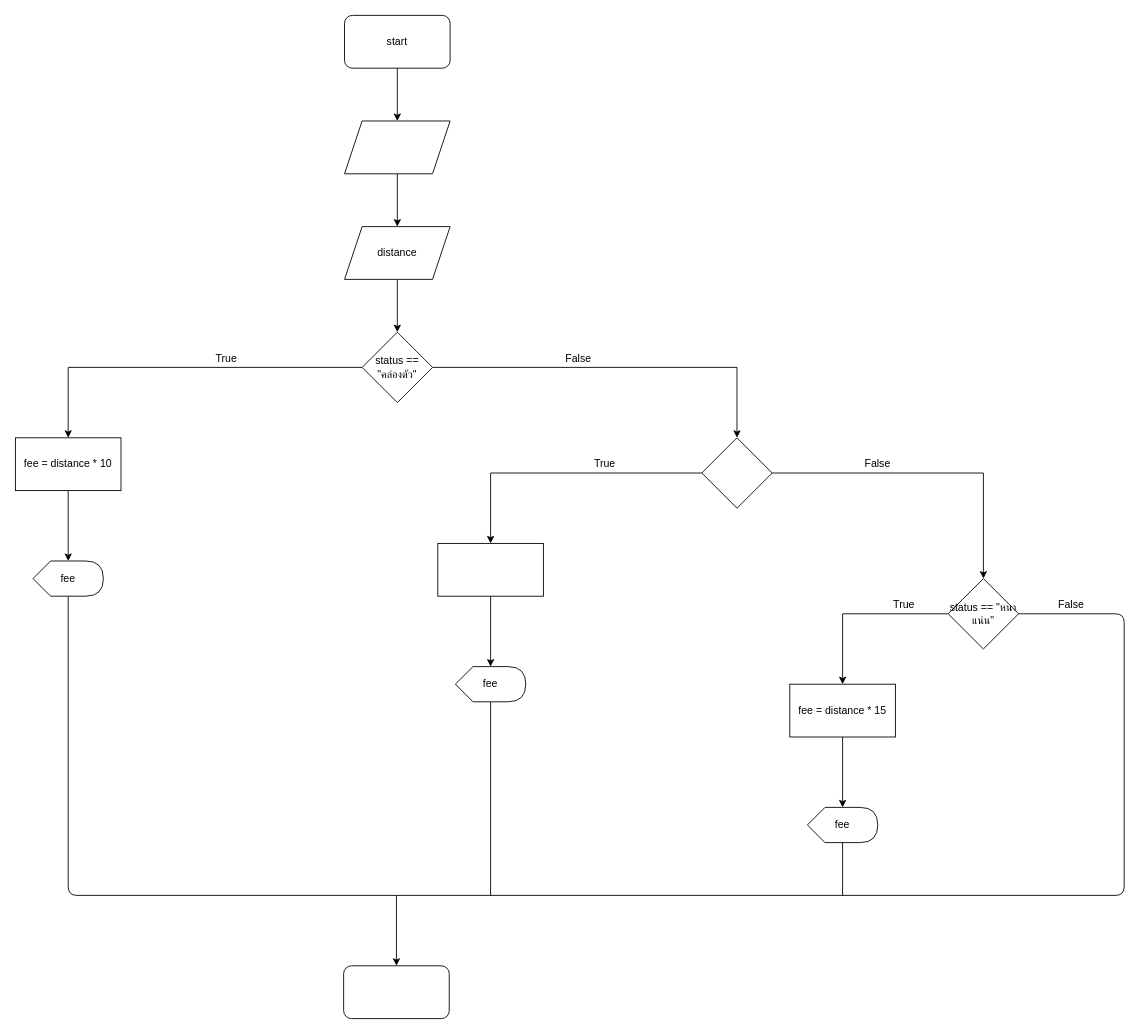
Image size: 1140x1034. Some labels were removed from this diagram. The shapes that lost their labels are listed below. From the top down, each one's centre as x and y in pixels, then its label:
(x=397, y=147): status
(x=736, y=472): status == "ปานกลาง"
(x=490, y=569): fee = distance * 12
(x=396, y=992): End
